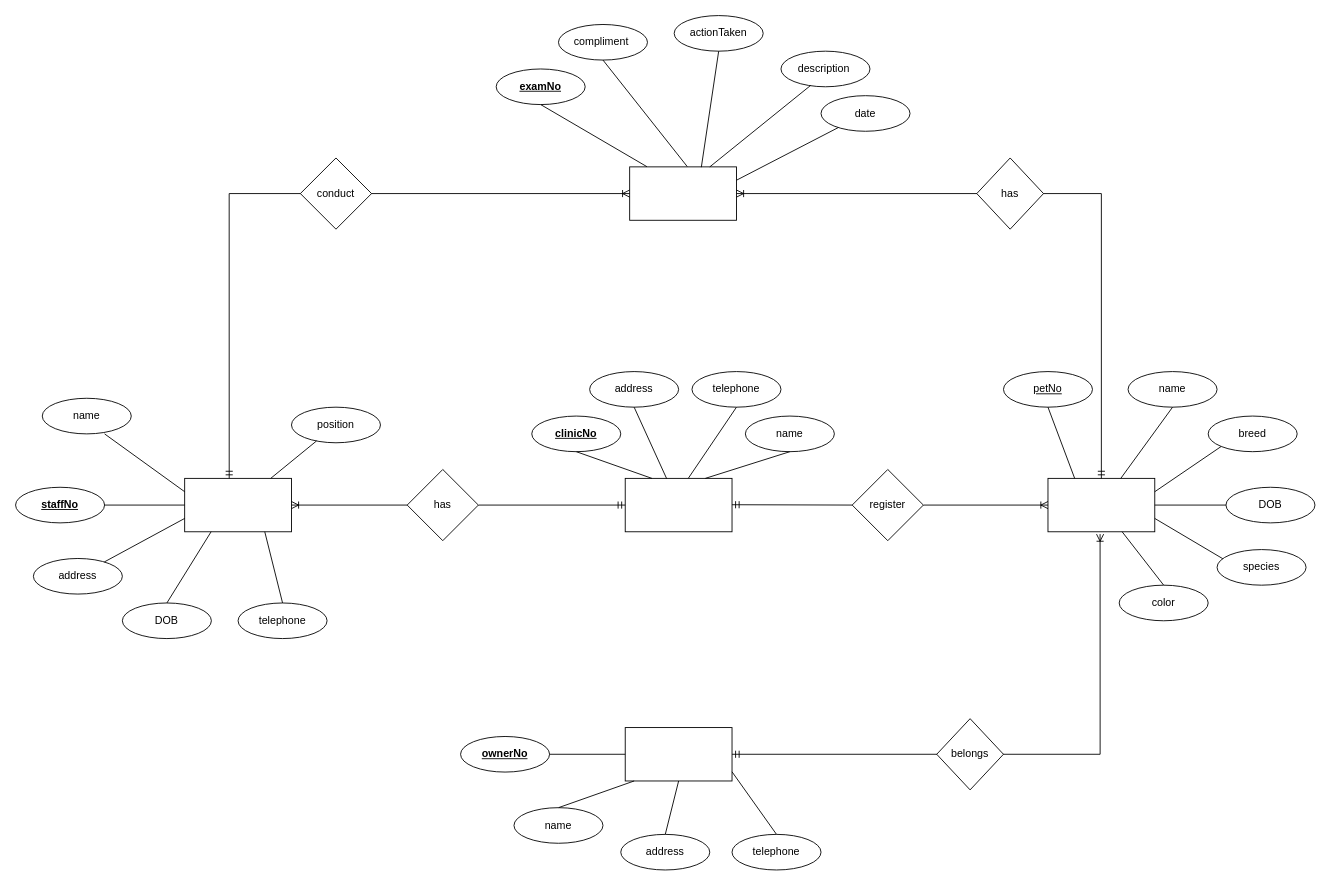
Some shapes in this 1331 by 886 pixel diagram are drawn without their labels. The centre of each missing label's shape, as x and y in pixels:
Clinic: [678,504]
Examination: [682,193]
Owner: [678,754]
Pet: [1101,504]
Staff: [237,504]
